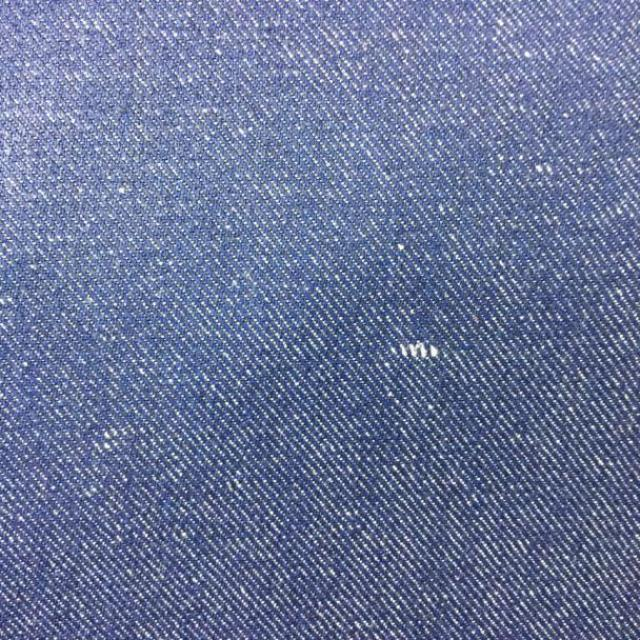Knot: (392, 343, 440, 358)
